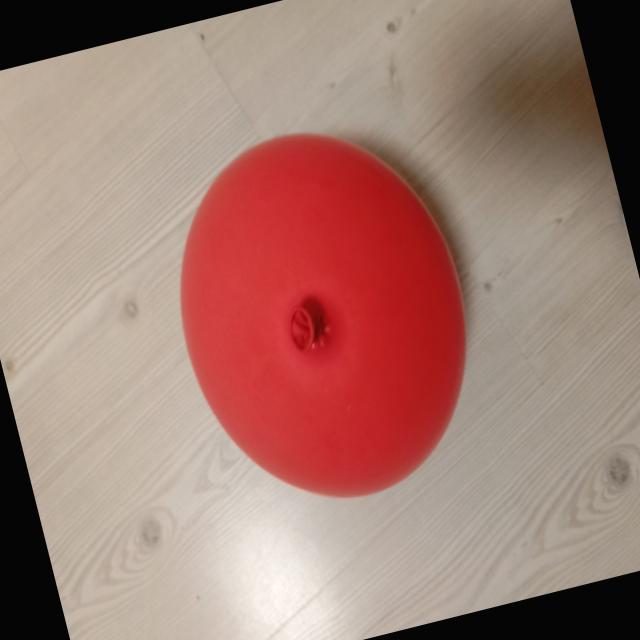balloon: (181, 133, 465, 497)
